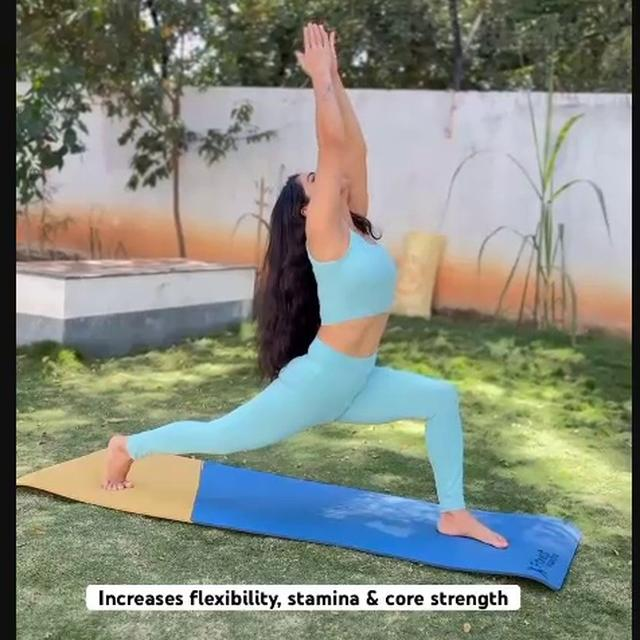Warrior_I: (92, 19, 531, 547)
